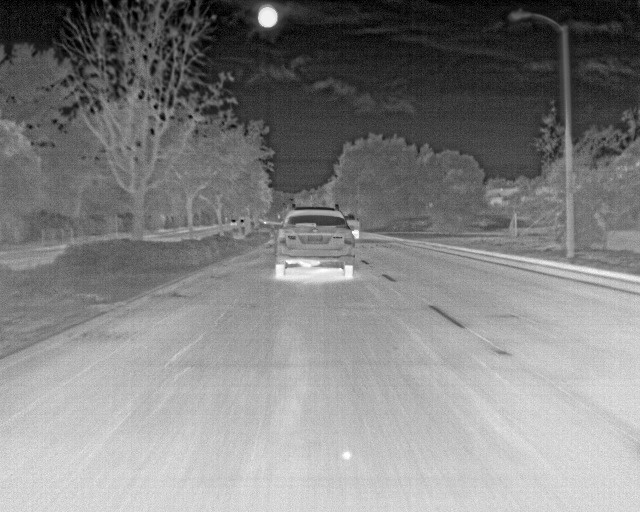vehicle: (275, 207, 353, 282)
